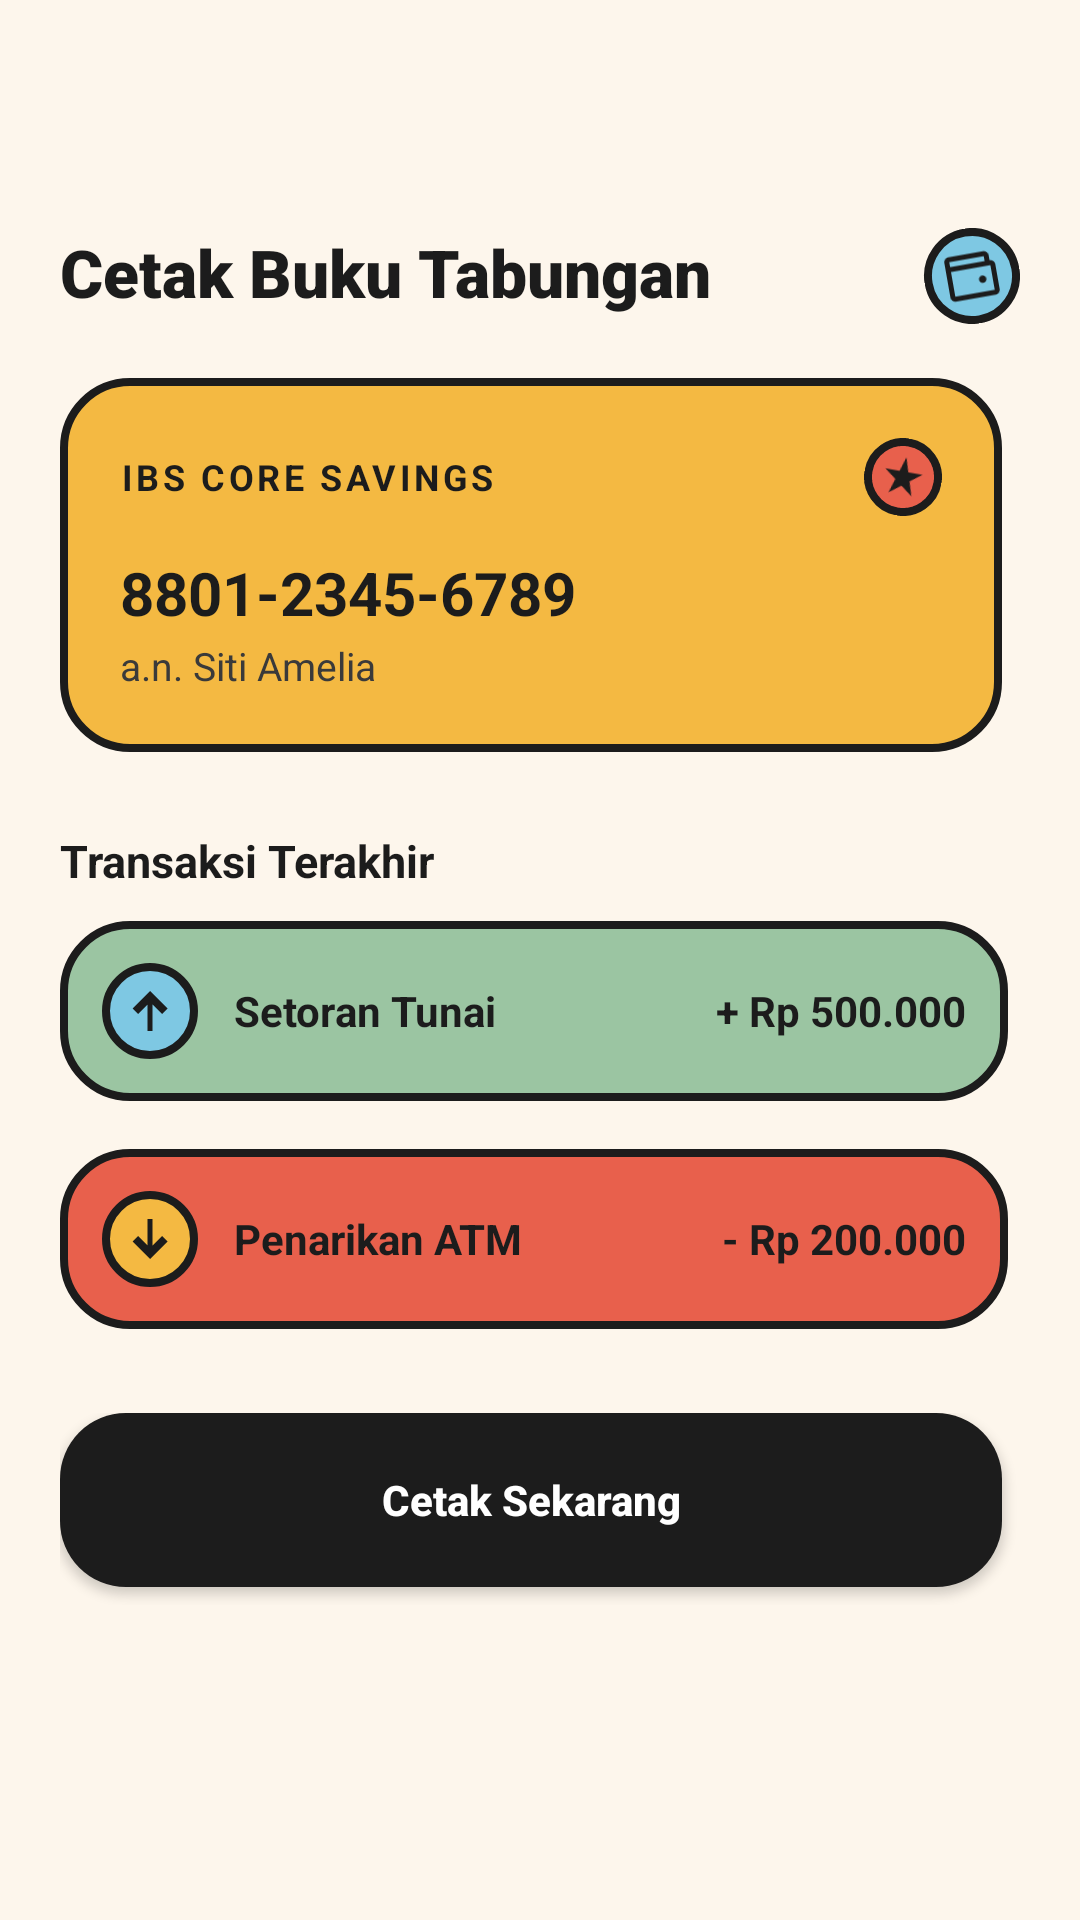

Where to tap for icons on this 1080px×1920px app screen, as point (x, y):
arrow down: point (150, 1239)
arrow up: point (150, 1011)
